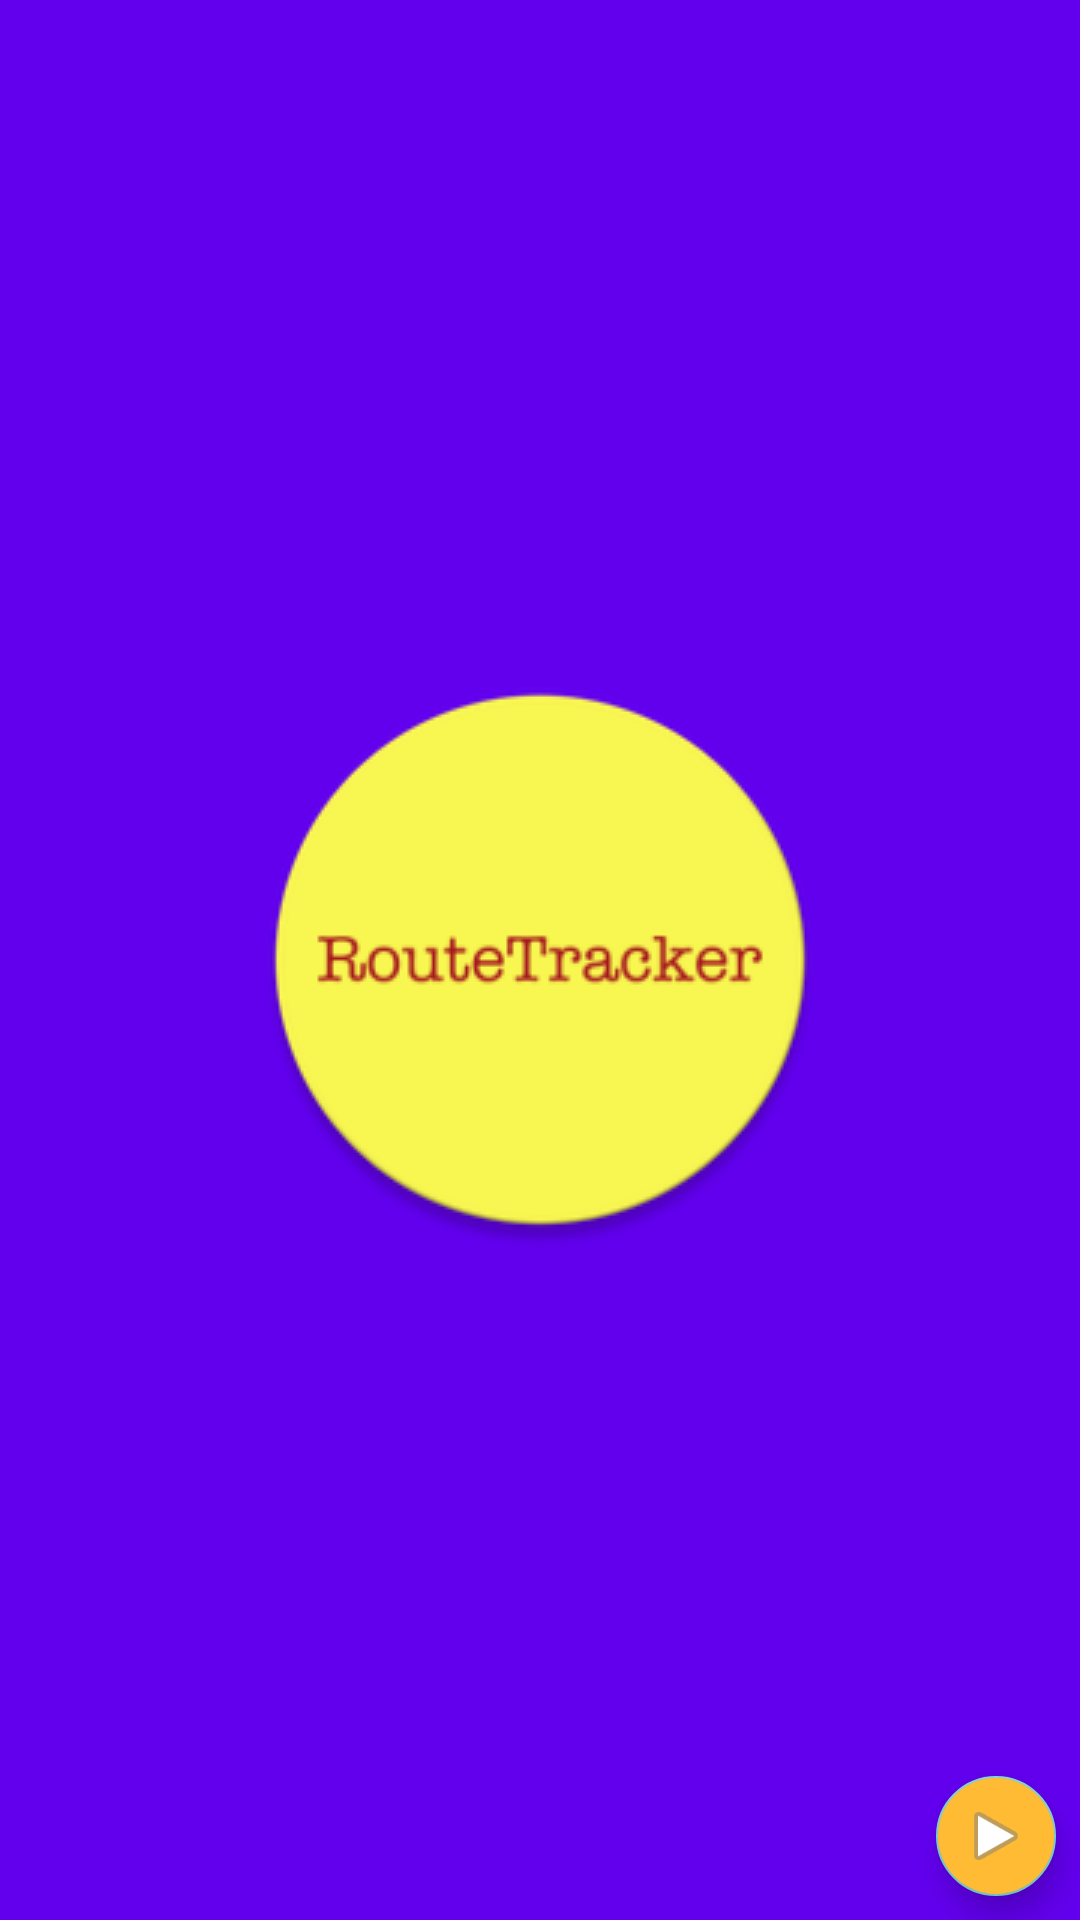

Icon click points for this 1080px×1920px phone screenshot, format point (x, y):
play: point (996, 1836)
